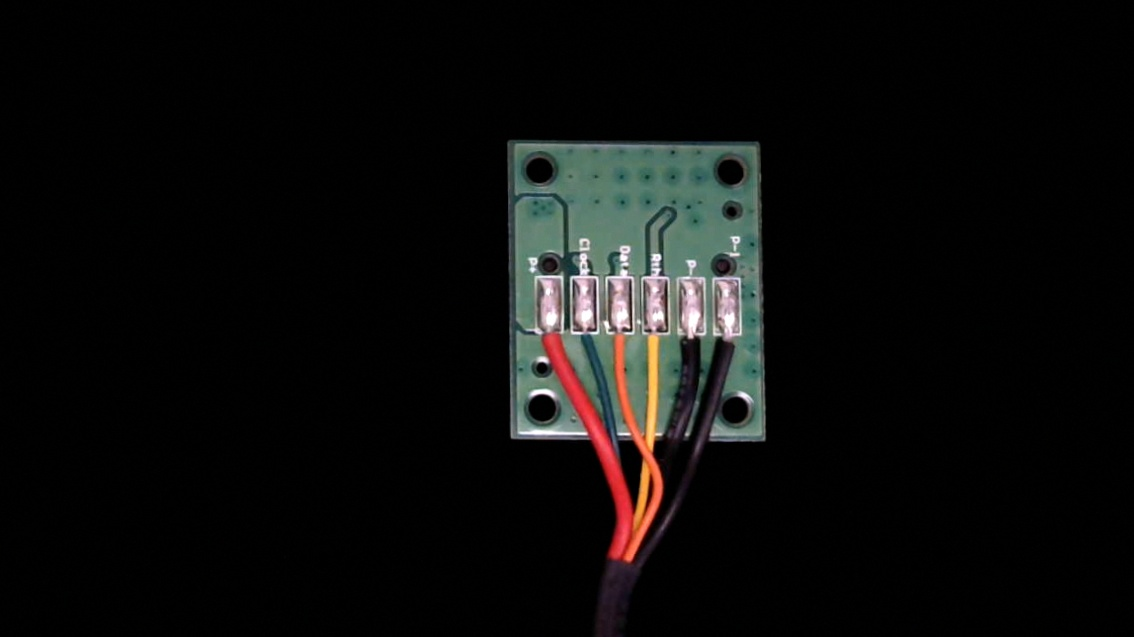Black: (675, 318, 708, 384)
Black1: (718, 319, 746, 382)
Green: (573, 317, 600, 373)
Orange: (607, 317, 638, 383)
Red: (537, 317, 566, 378)
Yellow: (638, 318, 671, 386)
